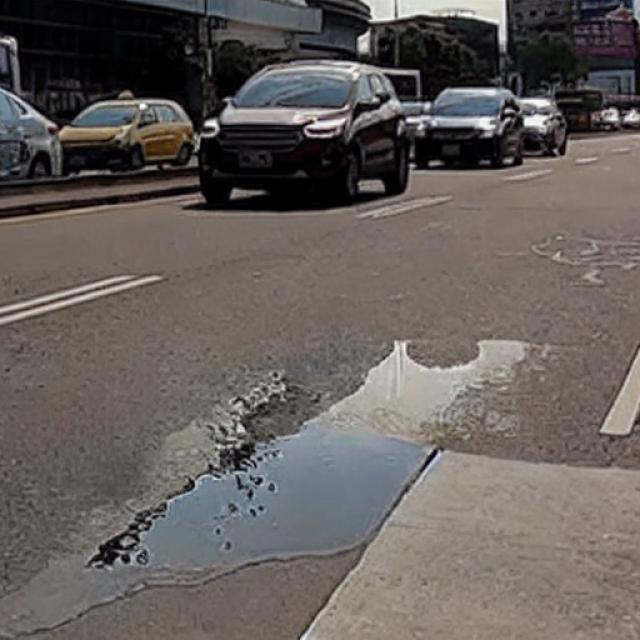puddle: (91, 418, 431, 575)
